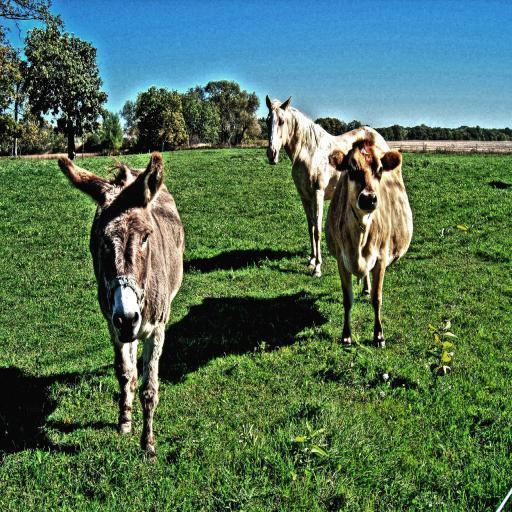horse: (265, 92, 388, 277)
